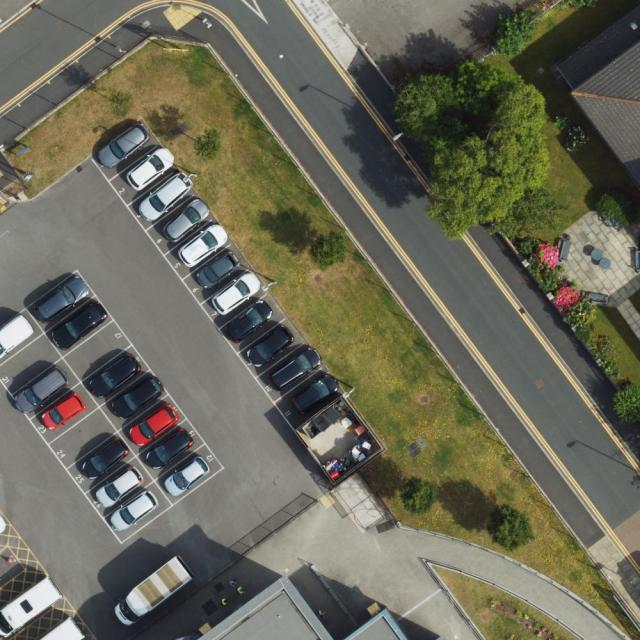roof: (572, 39, 640, 188), (207, 574, 332, 640), (350, 610, 405, 640)
